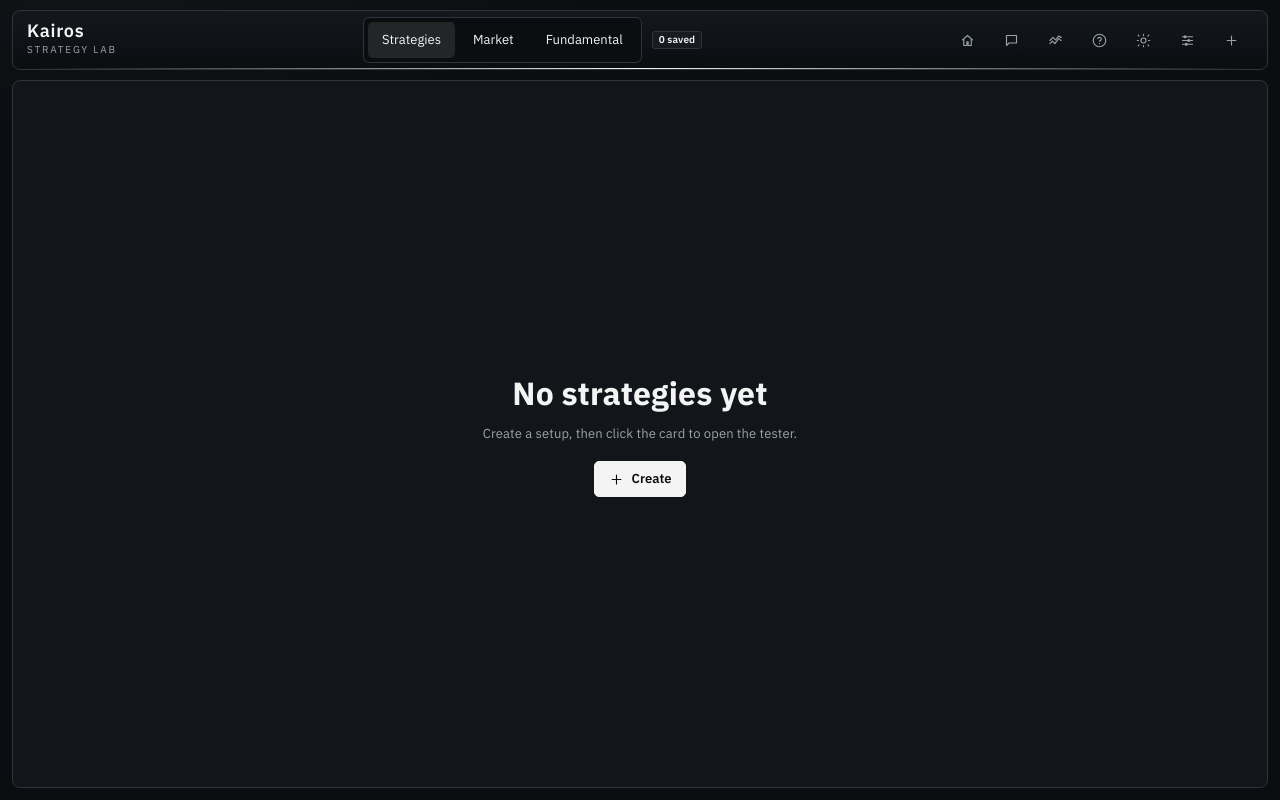
Test: Adversarial Stress Suite: Milestone 3 Header & Navigation Alignment › Dimension 4: Empirical Screen Switching Cycle & Active States › verifies StrategyLibrary desk navigation tabs update active state and action button
Check: the button named "Create strategy" is shown, box x1=1213 y1=22 x2=1249 y2=58
# Switch to Market Desk
Click the button "Market" at {"x": 493, "y": 40}, box x1=459 y1=22 x2=528 y2=58
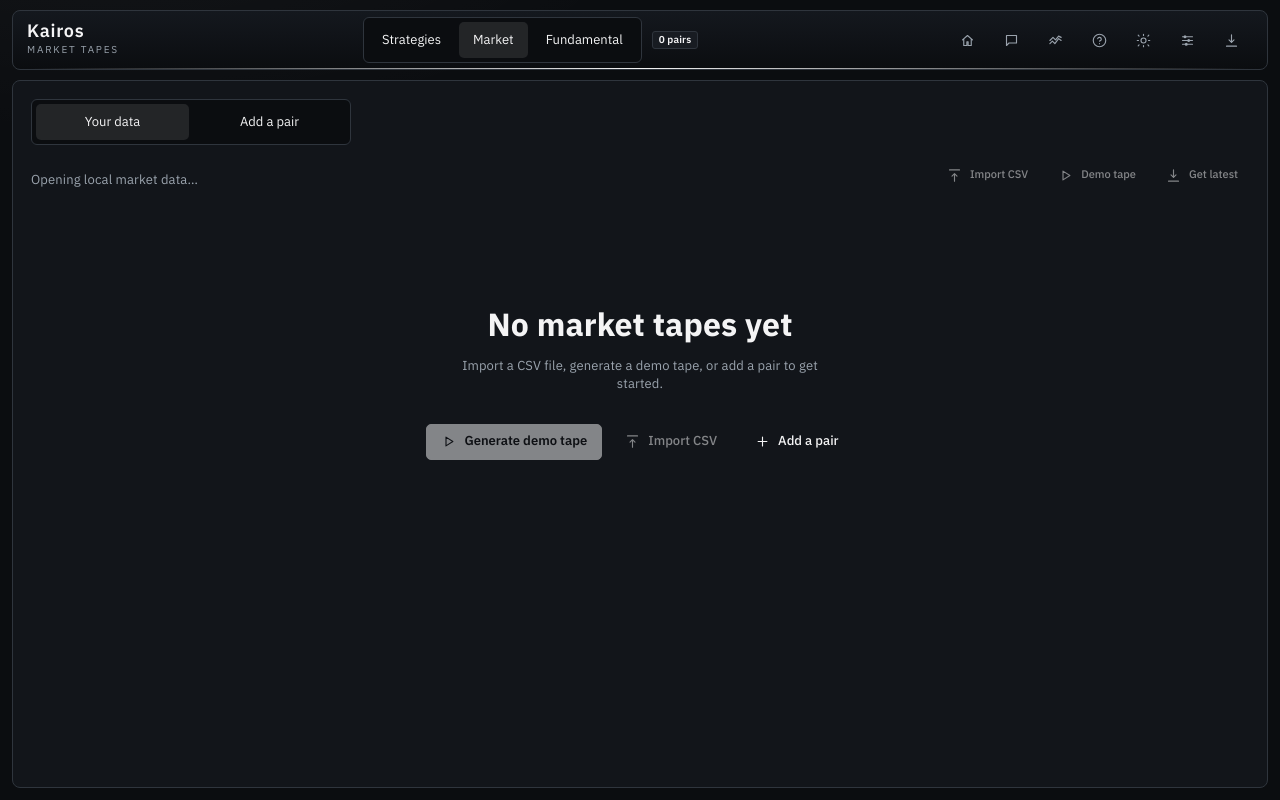
Check: the button named "Download market tape" is shown, box x1=1213 y1=22 x2=1249 y2=58
# Switch to Fundamental Desk
Click the button "Fundamental" at {"x": 584, "y": 40}, box x1=532 y1=22 x2=637 y2=58
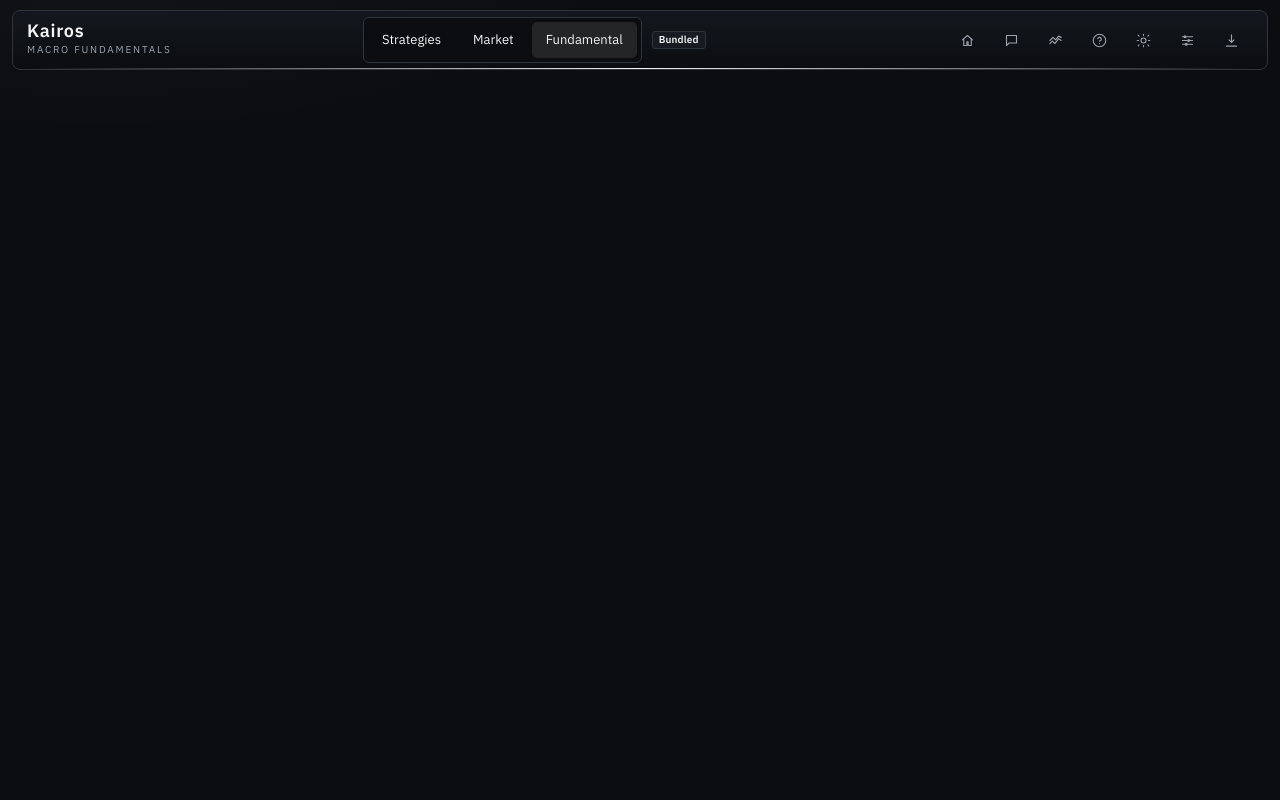
Check: the button named "Macro fundamentals" is shown, box x1=1213 y1=22 x2=1249 y2=58
# Switch back to Strategies Desk
Click the button "Strategies" at {"x": 412, "y": 40}, box x1=368 y1=22 x2=455 y2=58
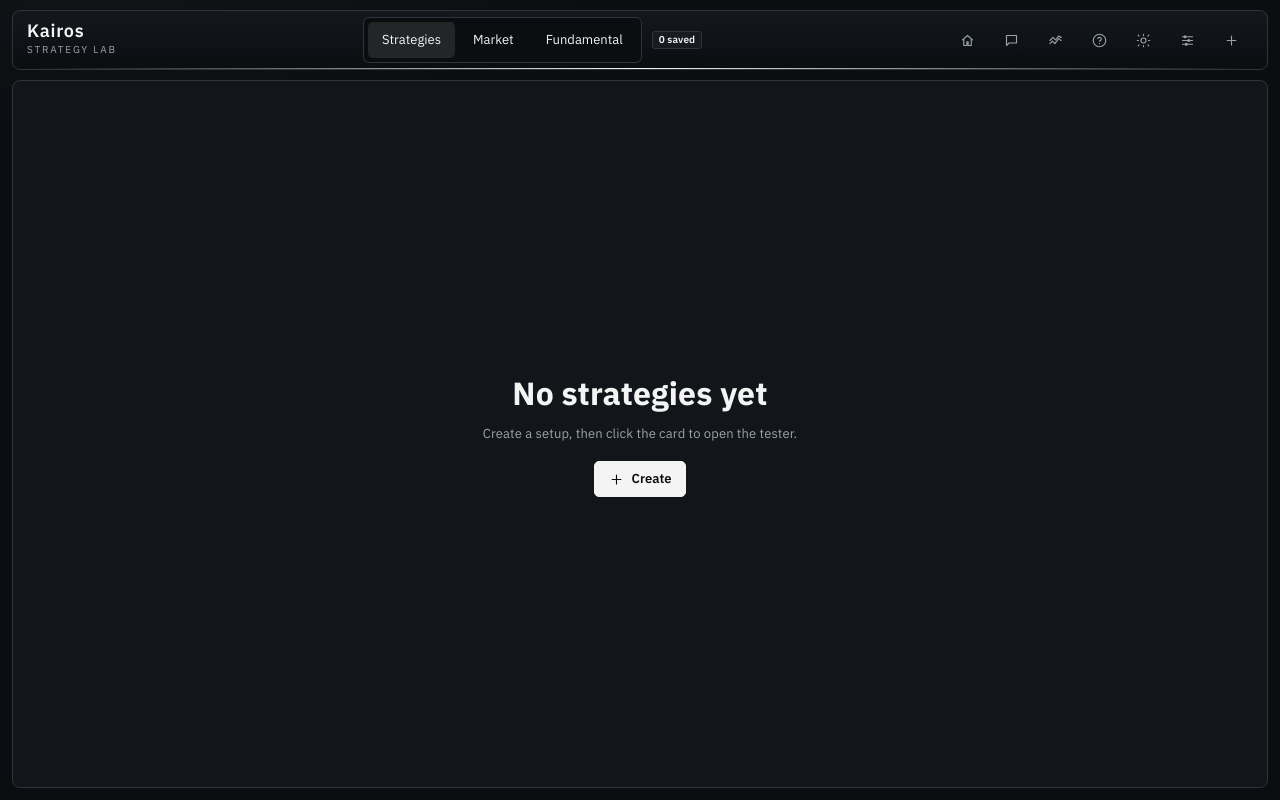
Check: the button named "Create strategy" is shown, box x1=1213 y1=22 x2=1249 y2=58
